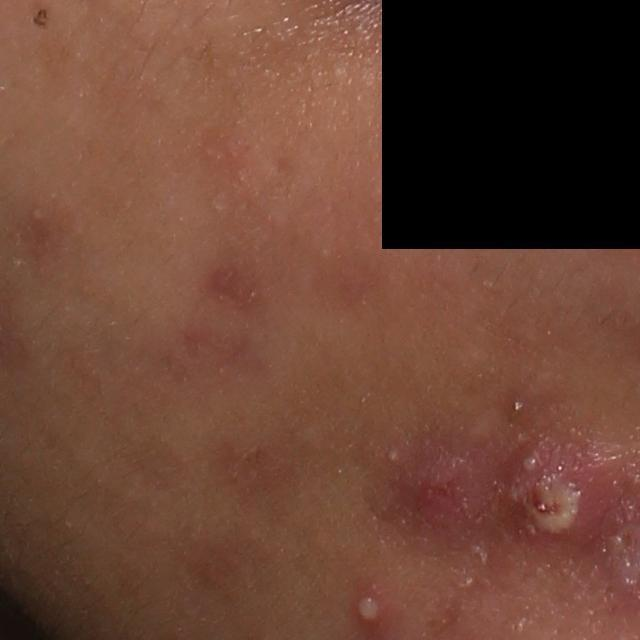comedo: (29, 205, 47, 224), (461, 573, 480, 590)
nevus: (31, 6, 51, 32)
nodule: (494, 433, 639, 558)
papule: (398, 455, 483, 544)
